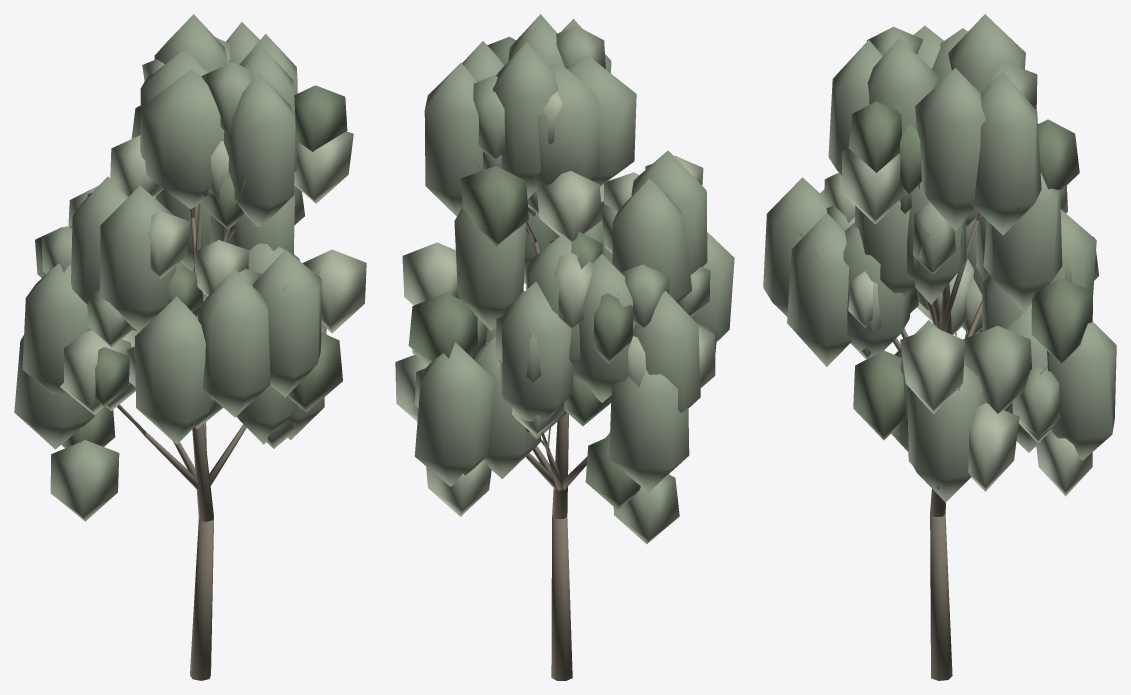
Rendered from SM_MPR3_Tree_1_LOD1.fbx.
The picture shows the model from 3 angles, left to right: view 1: azimuth 30°, elevation 25°; view 2: azimuth 150°, elevation 25°; view 3: azimuth 270°, elevation 25°; orthographic projection. The views are drawn at different scales.
Visible parts, largest first — view 1: SM_MPR3_Tree_1_LOD1; view 2: SM_MPR3_Tree_1_LOD1; view 3: SM_MPR3_Tree_1_LOD1.
Boxes of the visible parts, x1,y1,x2,y2 form: SM_MPR3_Tree_1_LOD1: (14,14,366,680); SM_MPR3_Tree_1_LOD1: (395,14,734,680); SM_MPR3_Tree_1_LOD1: (763,14,1116,680).
Size of the model in its own units: 528 by 498 by 1040.
